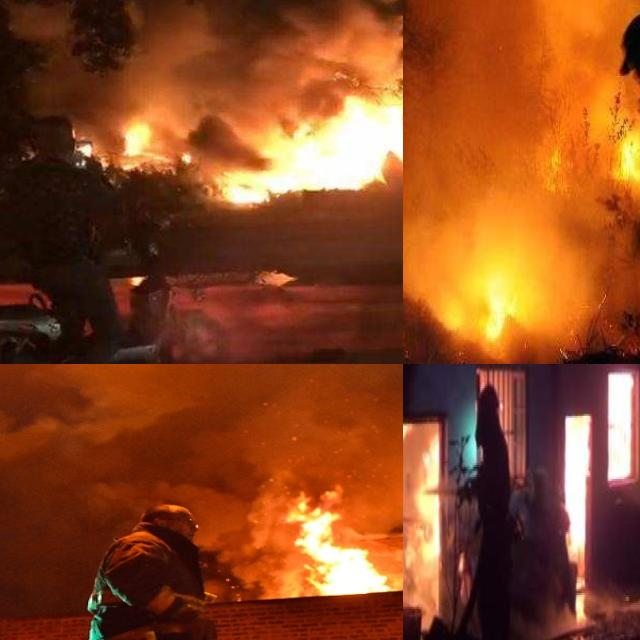fire: (118, 100, 403, 205), (435, 236, 552, 364), (282, 493, 403, 594), (403, 415, 440, 624), (564, 416, 588, 575), (606, 364, 632, 476), (605, 114, 640, 196)
smoke: (0, 364, 403, 597), (403, 0, 640, 330), (17, 0, 403, 107)
